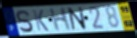2: (89, 6, 106, 30)
8: (105, 5, 121, 30)
H: (48, 7, 72, 33)
K: (31, 9, 50, 33)
N: (66, 6, 88, 31)
S: (15, 9, 35, 34)
